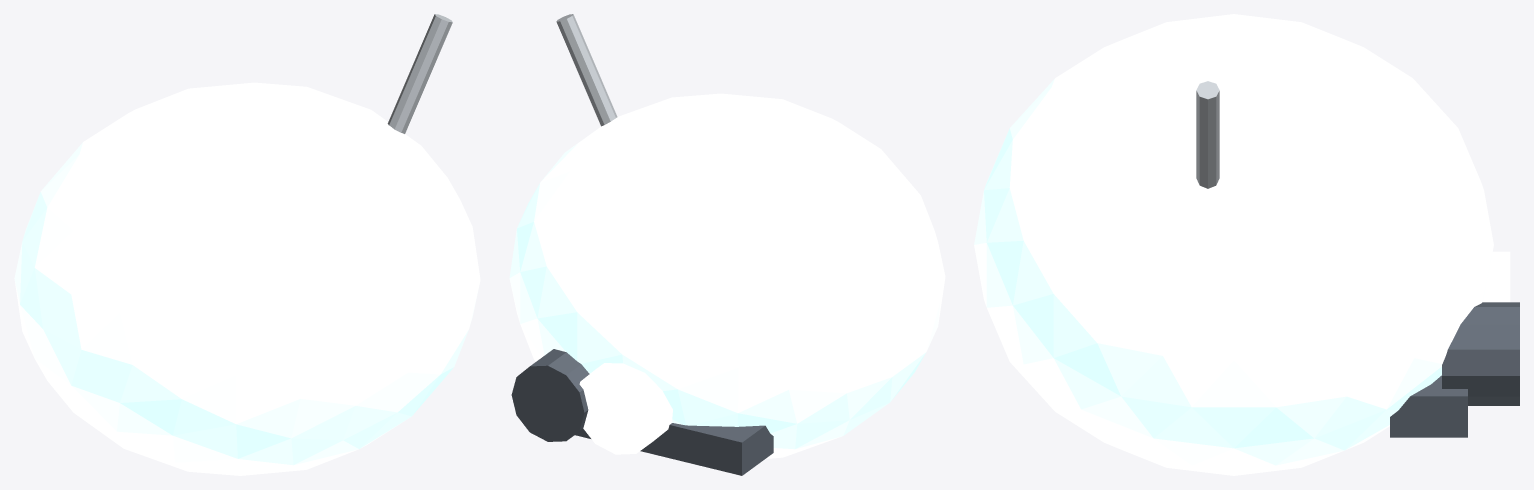
Rendered from casco_5.glb.
3 views of the same model, side by side, from view 1: azimuth 30°, elevation 25°; view 2: azimuth 150°, elevation 25°; view 3: azimuth 270°, elevation 25° (orthographic). The views are drawn at different scales.
Parts seen in each view (by area): view 1: casco, antena; view 2: casco, linterna, gafa, visera, antena; view 3: casco, gafa, visera, antena, linterna.
Part boxes in pixels (left/top/right/bottom): casco: left=14, top=82, right=480, bottom=475; antena: left=387, top=14, right=452, bottom=133; casco: left=509, top=93, right=945, bottom=458; linterna: left=579, top=363, right=672, bottom=454; gafa: left=511, top=349, right=589, bottom=441; visera: left=575, top=423, right=773, bottom=475; antena: left=556, top=14, right=617, bottom=126; casco: left=974, top=14, right=1493, bottom=475; gafa: left=1442, top=302, right=1519, bottom=405; visera: left=1390, top=375, right=1467, bottom=437; antena: left=1196, top=81, right=1219, bottom=188; linterna: left=1482, top=251, right=1510, bottom=302.
Bounding box in the file's own units: 0.9 × 0.8443 × 0.9.
